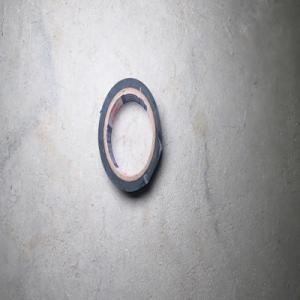Tape: (98, 78, 162, 198)
